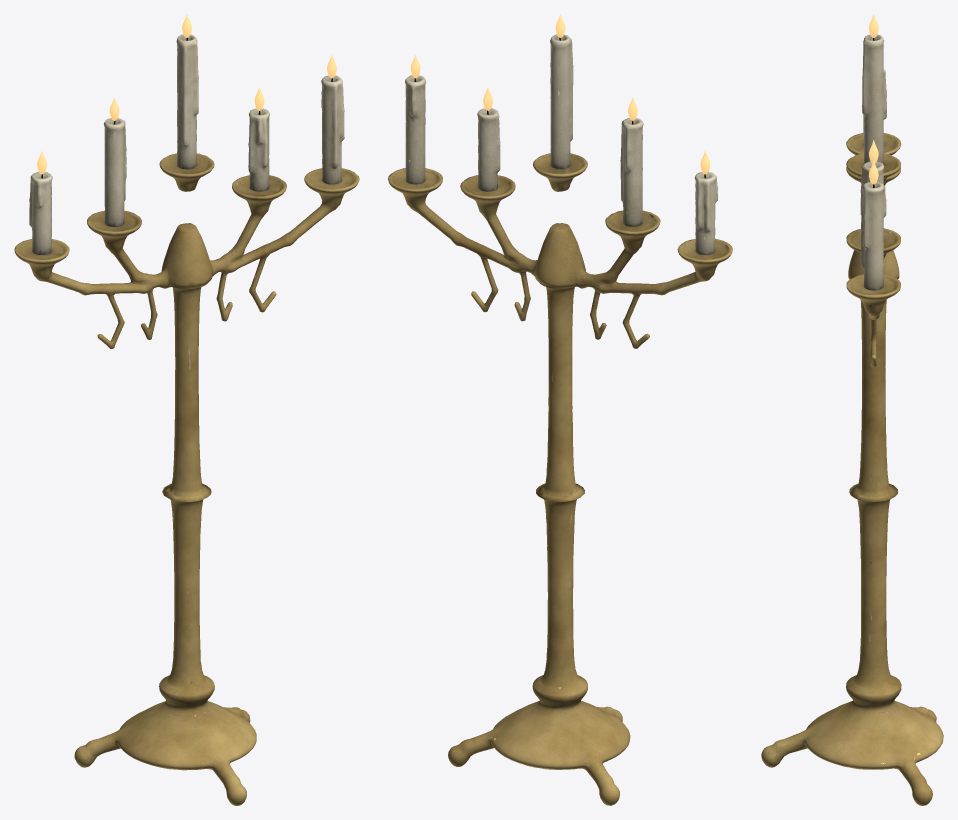
The model's file is candelabra.glb.
3 views of the same model, side by side, from view 1: azimuth 30°, elevation 25°; view 2: azimuth 150°, elevation 25°; view 3: azimuth 270°, elevation 25° (orthographic).
Parts seen in each view (by area): view 1: Candelabra, Candelabra_Wax, Candelabra_Flames; view 2: Candelabra, Candelabra_Wax, Candelabra_Flames; view 3: Candelabra, Candelabra_Wax, Candelabra_Flames.
Part boxes in pixels (<box>): Candelabra: <box>14,153,359,805</box>; Candelabra_Wax: <box>29,34,344,254</box>; Candelabra_Flames: <box>37,14,336,174</box>; Candelabra: <box>388,153,732,805</box>; Candelabra_Wax: <box>405,34,717,254</box>; Candelabra_Flames: <box>410,14,710,174</box>; Candelabra: <box>761,133,943,805</box>; Candelabra_Wax: <box>860,34,886,290</box>; Candelabra_Flames: <box>869,14,878,184</box>.
Bounding box in the file's own units: 0.8378 × 1.79 × 0.3923.
1 material, 1 textured.
